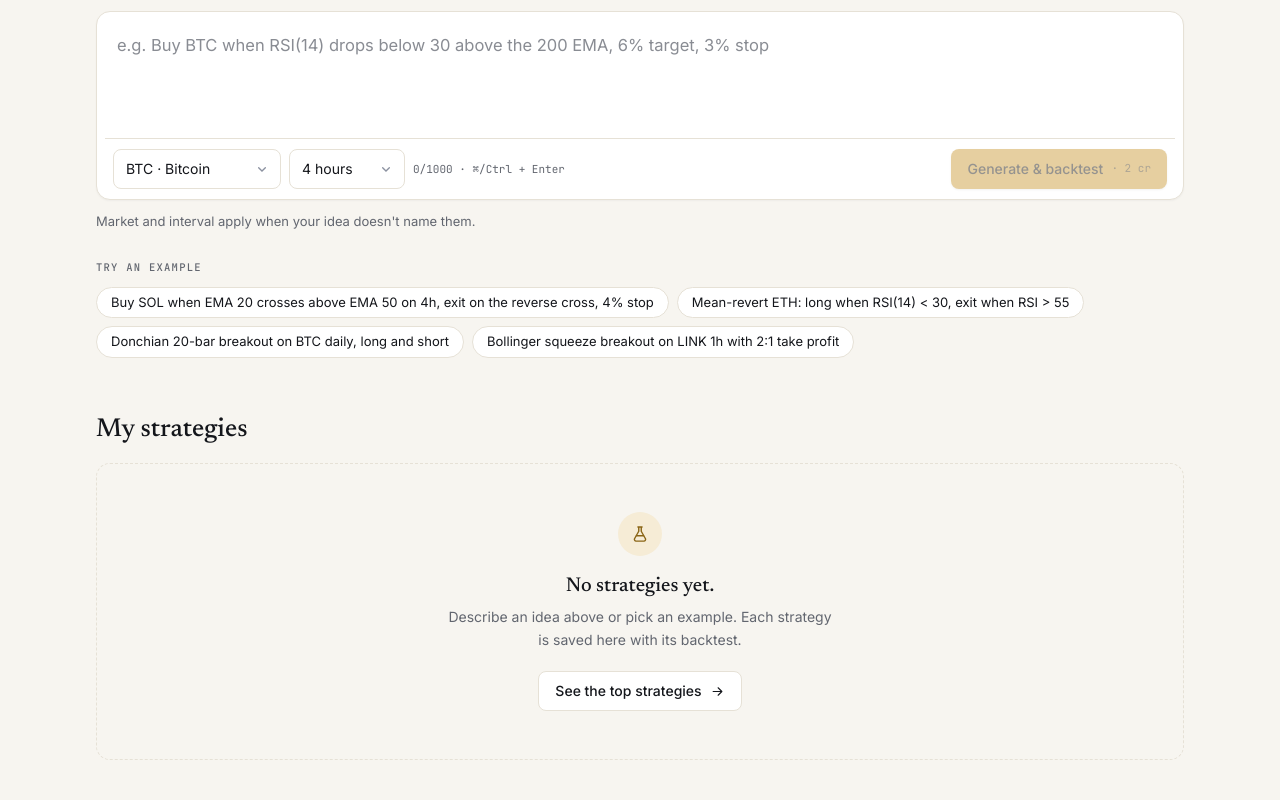
Scenario: StrategiesPage · studio › points new users to the leaderboard
(page scrolled)
Expected: the heading "No strategies yet." is shown, [566, 572, 714, 600]
Click the button "See the top strategies". click: (640, 691)
box: [538, 671, 742, 711]
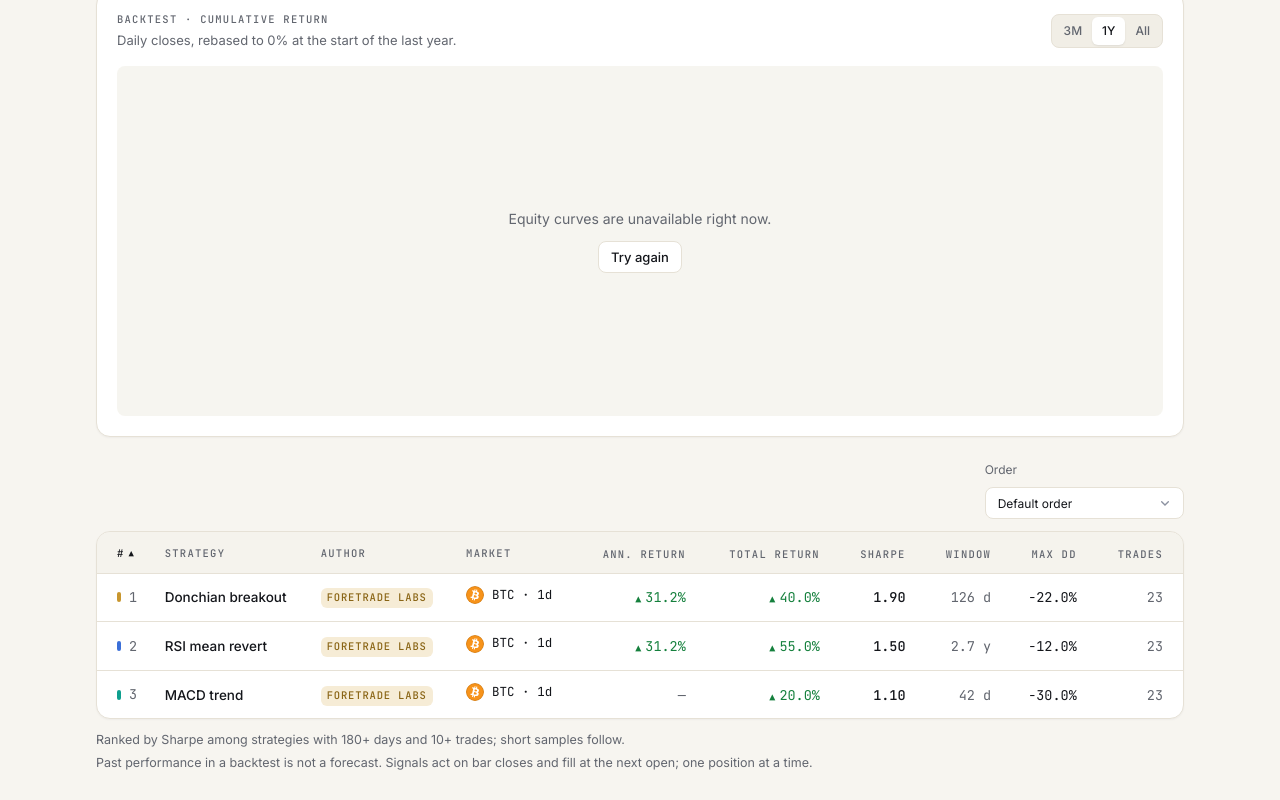
Result: the text "Equity curves are unavailable right now." is shown at [509, 209, 771, 229]
